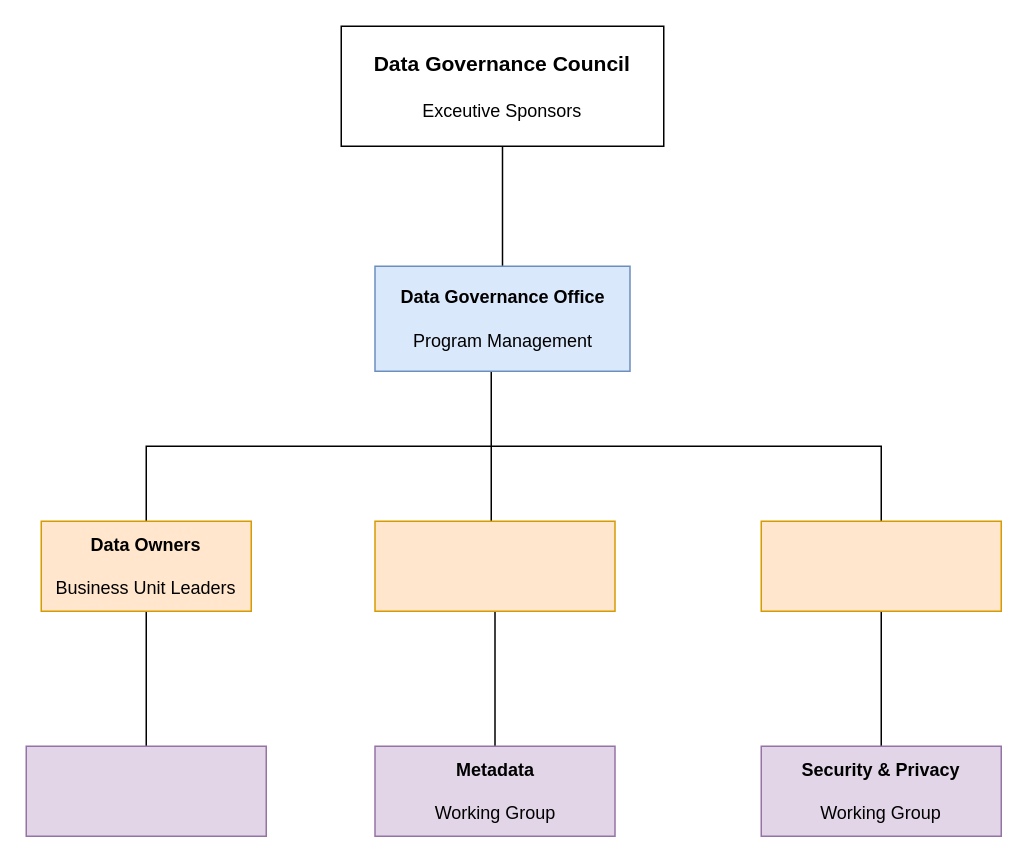
The diagram is 1028 pixels wide and 863 high, and some of its shapes have lost their labels. Each missing label, with the box of its shape:
Data Custodians Technical Terms: (760, 520, 1001, 611)
Data Quality Working Group: (25, 745, 266, 836)
Data Steward Subject Matter Experts: (374, 520, 615, 611)
